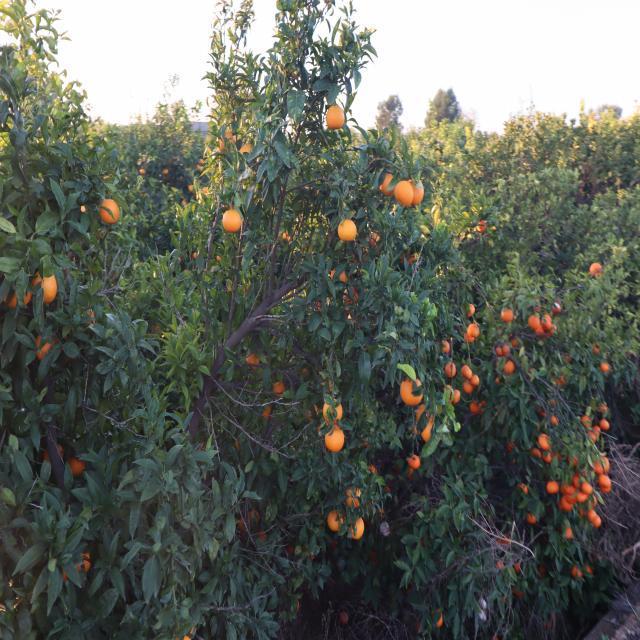Jeruk Sudah Matang: (33, 334, 60, 359), (4, 288, 32, 308), (401, 379, 422, 404), (394, 182, 414, 206), (326, 426, 344, 452), (222, 210, 243, 232), (99, 202, 119, 225), (408, 178, 425, 204), (339, 220, 358, 242), (329, 105, 347, 128), (42, 276, 59, 300), (346, 489, 364, 509), (328, 509, 344, 531), (70, 458, 86, 476), (423, 419, 436, 441), (354, 516, 368, 536), (600, 474, 614, 492), (380, 174, 394, 192), (221, 130, 235, 148), (79, 554, 91, 574), (449, 386, 462, 403), (444, 364, 458, 379), (591, 509, 603, 526), (561, 496, 575, 510), (591, 262, 604, 276), (469, 400, 482, 414), (337, 402, 347, 420), (273, 382, 286, 395), (468, 324, 480, 338), (501, 308, 513, 322), (540, 434, 552, 448), (321, 402, 333, 416), (441, 340, 452, 355), (591, 426, 601, 442), (237, 517, 247, 533), (548, 481, 560, 494), (240, 143, 253, 155), (542, 317, 553, 331), (416, 405, 426, 420), (502, 362, 514, 374), (475, 221, 487, 233), (592, 461, 604, 473), (409, 455, 420, 468), (247, 355, 260, 366), (583, 481, 594, 494), (466, 302, 476, 316), (565, 524, 575, 538), (462, 366, 472, 380), (249, 506, 259, 520), (529, 316, 540, 328), (280, 230, 291, 242), (232, 438, 242, 451), (524, 514, 536, 524), (572, 566, 582, 578), (602, 362, 612, 374), (340, 612, 350, 624), (518, 483, 530, 493), (288, 546, 300, 556), (596, 424, 606, 436), (602, 457, 610, 472), (542, 450, 552, 462), (572, 473, 580, 488), (530, 449, 542, 459), (370, 234, 380, 246), (350, 286, 358, 300), (564, 484, 575, 494), (470, 375, 480, 386), (463, 381, 473, 392), (436, 612, 445, 624), (598, 403, 610, 412), (601, 420, 611, 430), (262, 408, 272, 418), (340, 272, 350, 282), (572, 456, 582, 466), (370, 464, 380, 474), (566, 494, 576, 504), (464, 333, 474, 343), (555, 378, 566, 387), (258, 530, 267, 540), (582, 413, 591, 423), (586, 565, 596, 574), (578, 493, 588, 502), (503, 344, 510, 356), (496, 560, 504, 570), (540, 566, 548, 576), (496, 347, 504, 357), (506, 440, 514, 450), (513, 563, 521, 572), (536, 325, 544, 334), (330, 269, 336, 280), (513, 589, 521, 597), (552, 416, 560, 424), (512, 339, 518, 347)
